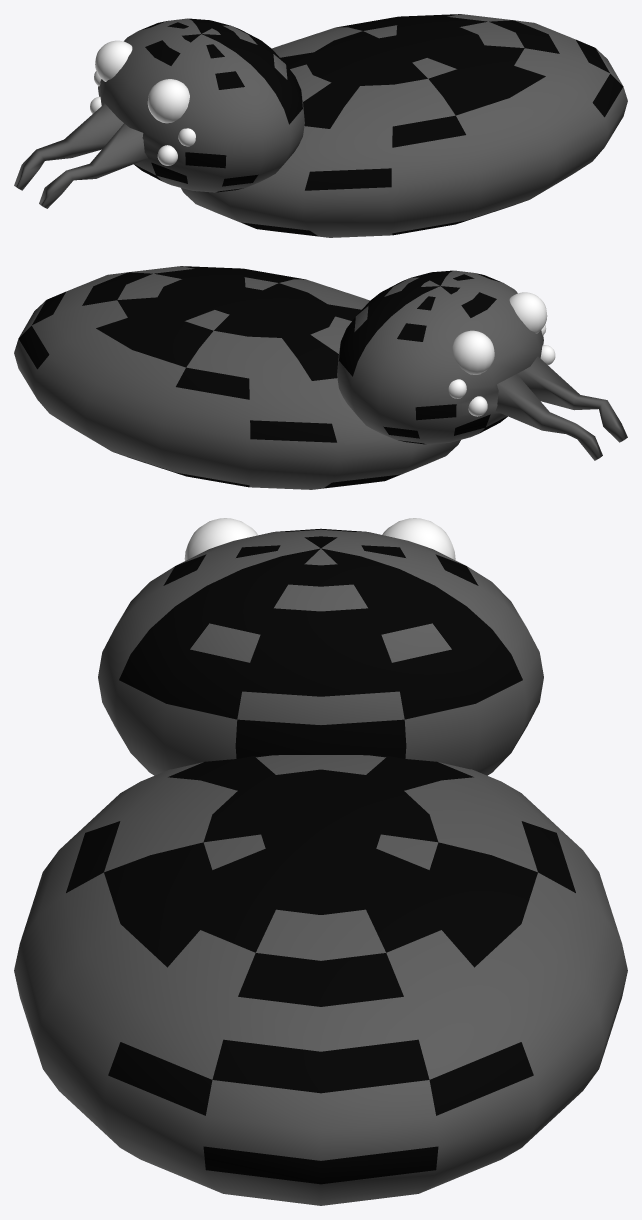
Rendered from spider boddy.fbx.
The picture shows the model from 3 angles, top to bottom: view 1: azimuth 30°, elevation 25°; view 2: azimuth 150°, elevation 25°; view 3: azimuth 270°, elevation 25°; orthographic projection. The views are drawn at different scales.
Parts seen in each view (by area): view 1: Sphere, Sphere.001, Cube, Cube.001, Sphere.003, Sphere.002, Sphere.006; view 2: Sphere, Sphere.001, Cube, Cube.001, Sphere.002, Sphere.003; view 3: Sphere, Sphere.001, Sphere.003, Sphere.002.
Part boxes in pixels (box(x1,y1,x2,y2)): Sphere: box(181, 14, 627, 237); Sphere.001: box(98, 18, 304, 192); Cube: box(14, 103, 123, 190); Cube.001: box(39, 123, 147, 208); Sphere.003: box(147, 79, 189, 123); Sphere.002: box(95, 40, 132, 81); Sphere.006: box(157, 145, 177, 165); Sphere: box(14, 266, 460, 489); Sphere.001: box(337, 270, 543, 444); Cube: box(495, 374, 602, 460); Cube.001: box(517, 356, 627, 442); Sphere.002: box(452, 330, 494, 374); Sphere.003: box(509, 292, 547, 333); Sphere: box(14, 755, 627, 1205); Sphere.001: box(98, 528, 543, 775); Sphere.003: box(184, 518, 257, 560); Sphere.002: box(382, 518, 455, 559).
Bounding box in the file's own units: 715 × 253 × 361.
